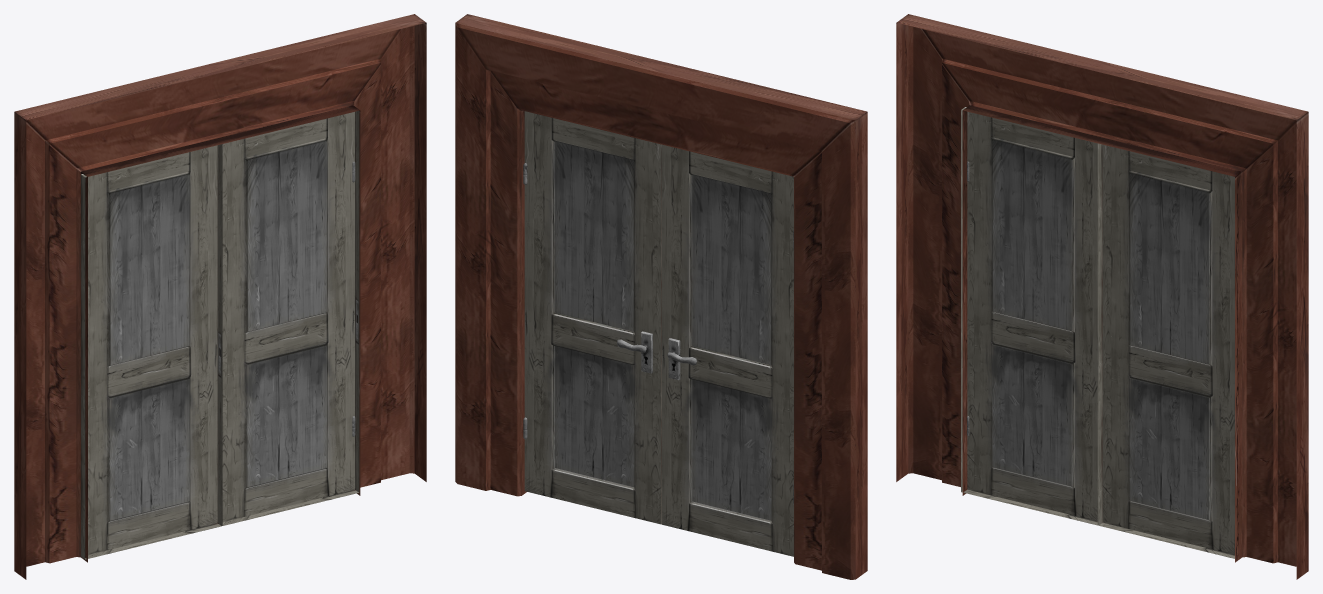
The model's file is entrance_door.fbx.
The picture shows the model from 3 angles, left to right: view 1: azimuth 30°, elevation 25°; view 2: azimuth 150°, elevation 25°; view 3: azimuth 330°, elevation 25°; orthographic projection.
Parts seen in each view (by area): view 1: polySurface360; view 2: polySurface360; view 3: polySurface360.
Part boxes in pixels (x1,y1,x2,y2): polySurface360: (14, 14, 426, 579); polySurface360: (455, 14, 867, 579); polySurface360: (896, 14, 1308, 579).
Bounding box in the file's own units: 256 × 281 × 14.89.
